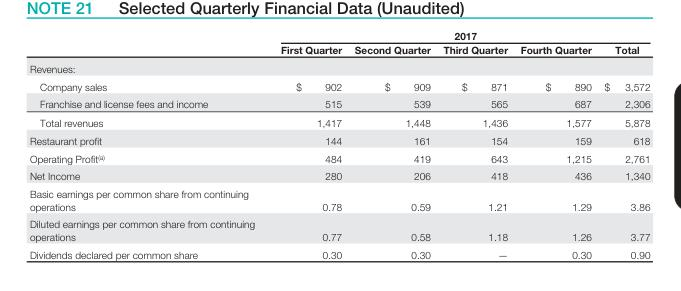table: (28, 29, 649, 259)
table column: (28, 29, 267, 259), (347, 29, 436, 259), (513, 29, 597, 259), (267, 29, 347, 259), (436, 29, 513, 259), (597, 29, 649, 259)
table column header: (28, 29, 649, 58)
table projected row header: (28, 58, 649, 77)
table row: (28, 184, 649, 214), (28, 214, 649, 244), (28, 58, 649, 77), (28, 94, 649, 113), (28, 113, 649, 131), (28, 131, 649, 149), (28, 166, 649, 184), (28, 77, 649, 94), (28, 149, 649, 166), (28, 42, 649, 58), (28, 244, 649, 259), (28, 29, 649, 42)
table spanning cell: (267, 29, 649, 42)
